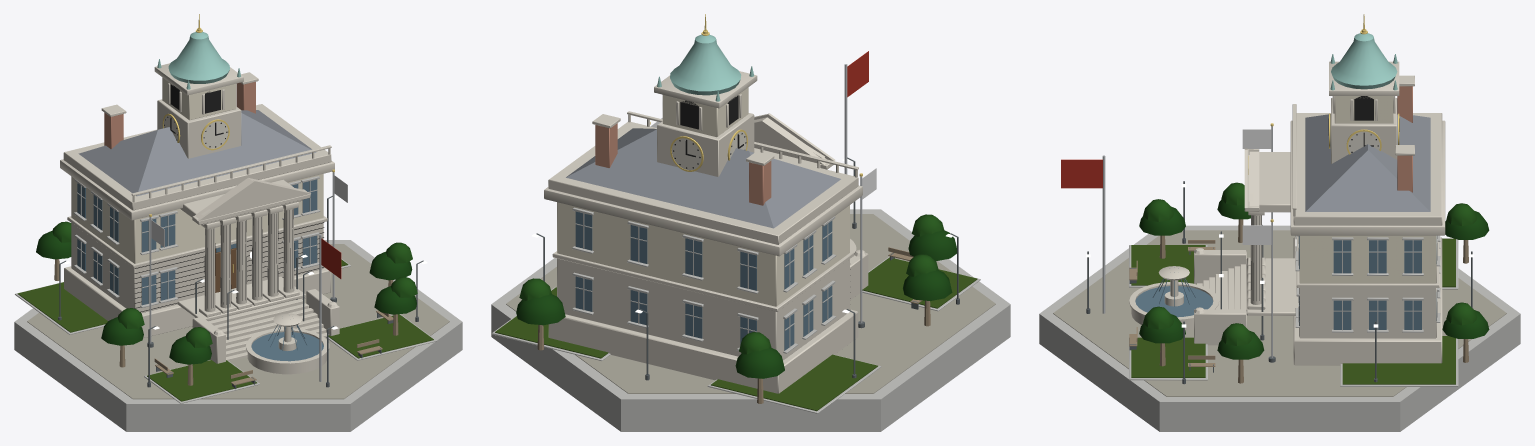
File: cityHall_us.glb
3 views of the same model, side by side, from view 1: azimuth 30°, elevation 25°; view 2: azimuth 150°, elevation 25°; view 3: azimuth 270°, elevation 25° (orthographic). The views are drawn at different scales.
Visible parts, largest first — view 1: stone, wall_concrete, pavers, roof_slate, turf, leaf, plaster, glass, dark, copper, wood, paint (+4 smaller); view 2: stone, wall_concrete, pavers, plaster, roof_slate, leaf, turf, glass, copper, brick, paint, steel_dark (+3 smaller); view 3: stone, wall_concrete, pavers, roof_slate, turf, leaf, plaster, glass, copper, paint, wood, banner (+4 smaller).
Boxes of the visible parts, x1,y1,x2,y2 form: stone: (60,63,339,374); wall_concrete: (14,176,462,431); pavers: (27,244,449,399); roof_slate: (78,110,316,196); turf: (17,259,433,401); leaf: (36,221,417,364); plaster: (71,77,323,263); glass: (77,179,323,361); dark: (134,84,324,312); copper: (157,32,240,89); wood: (54,248,398,385); paint: (163,115,341,278); stone: (544,71,868,393); wall_concrete: (491,207,1010,431); pavers: (506,214,995,393); plaster: (557,87,849,306); roof_slate: (566,128,840,228); leaf: (516,214,956,378); turf: (495,257,977,411); glass: (575,211,832,350); copper: (657,34,753,101); brick: (595,123,771,205); paint: (671,51,868,170); steel_dark: (536,157,959,380); stone: (1129,61,1445,365); wall_concrete: (1039,225,1520,431); pavers: (1053,230,1506,396); roof_slate: (1305,114,1430,211); turf: (1131,238,1455,384); leaf: (1139,182,1489,359); plaster: (1299,96,1436,283); glass: (1135,236,1436,329); copper: (1330,33,1397,90); paint: (1061,131,1379,188); wood: (1129,219,1468,383); banner: (1242,129,1271,244).
Size of the model in its own units: 21.3 by 18.6 by 24.6.
